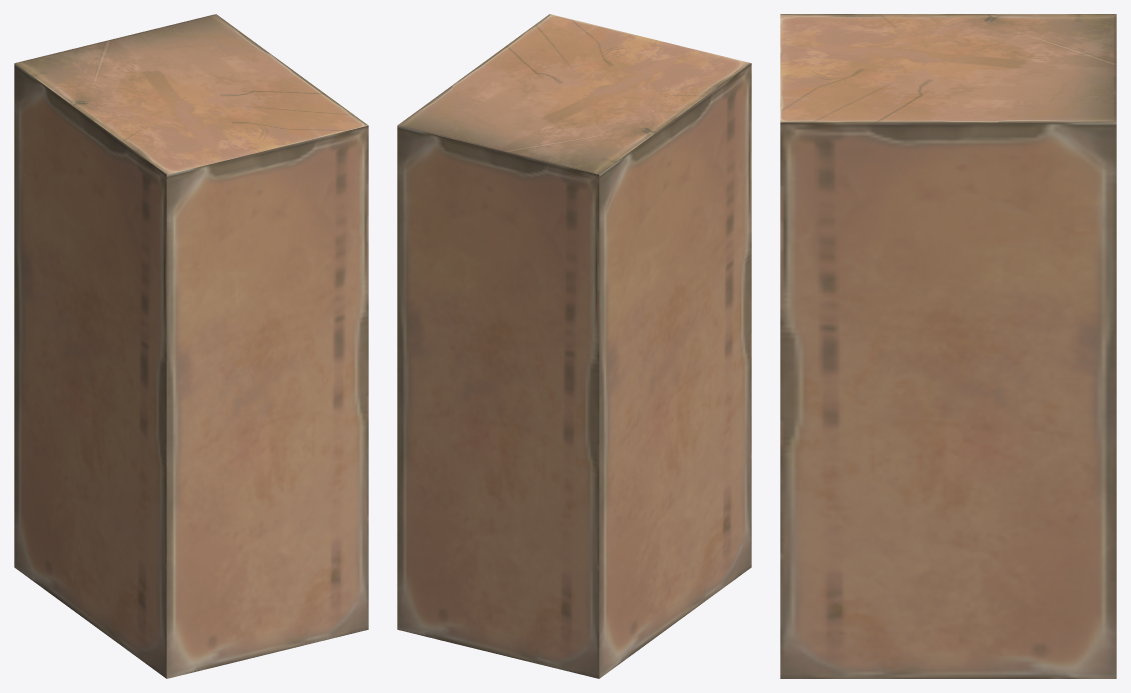
The model's file is Obstacle_Big.fbx.
The picture shows the model from 3 angles, left to right: view 1: azimuth 30°, elevation 25°; view 2: azimuth 150°, elevation 25°; view 3: azimuth 270°, elevation 25°; orthographic projection. The views are drawn at different scales.
Visible parts, largest first — view 1: Obstacle_Big; view 2: Obstacle_Big; view 3: Obstacle_Big.
Part boxes in pixels (bbox=[...]): Obstacle_Big: bbox=[14, 14, 368, 678]; Obstacle_Big: bbox=[397, 14, 751, 678]; Obstacle_Big: bbox=[780, 14, 1116, 678].
Size of the model in its own units: 130 by 310 by 170.
